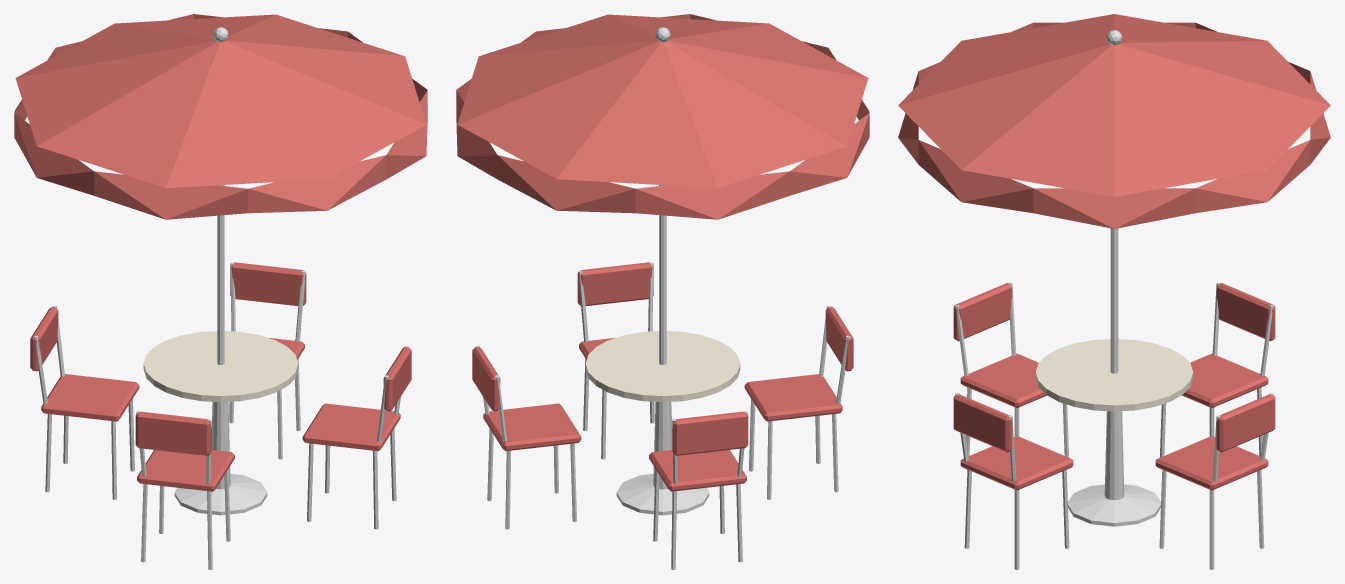
File: umbrella_table_r.glb
3 views of the same model, side by side, from view 1: azimuth 30°, elevation 25°; view 2: azimuth 150°, elevation 25°; view 3: azimuth 270°, elevation 25° (orthographic).
Visible parts, largest first — view 1: umbrella_table_r_canvas_r, umbrella_table_r_booth, umbrella_table_r_steel, umbrella_table_r_formica; view 2: umbrella_table_r_canvas_r, umbrella_table_r_booth, umbrella_table_r_steel, umbrella_table_r_formica; view 3: umbrella_table_r_canvas_r, umbrella_table_r_booth, umbrella_table_r_steel, umbrella_table_r_formica.
Boxes of the visible parts, left/top/right/bottom form: umbrella_table_r_canvas_r: left=14, top=14, right=427, bottom=219; umbrella_table_r_booth: left=30, top=262, right=411, bottom=491; umbrella_table_r_steel: left=33, top=27, right=408, bottom=569; umbrella_table_r_formica: left=143, top=331, right=298, bottom=402; umbrella_table_r_canvas_r: left=456, top=14, right=869, bottom=219; umbrella_table_r_booth: left=472, top=262, right=853, bottom=491; umbrella_table_r_steel: left=475, top=27, right=850, bottom=569; umbrella_table_r_formica: left=585, top=331, right=740, bottom=402; umbrella_table_r_canvas_r: left=898, top=14, right=1330, bottom=228; umbrella_table_r_booth: left=953, top=283, right=1275, bottom=490; umbrella_table_r_steel: left=955, top=30, right=1273, bottom=569; umbrella_table_r_formica: left=1035, top=339, right=1193, bottom=411.
Size of the model in its own units: 2.2 by 2.67 by 2.2.
